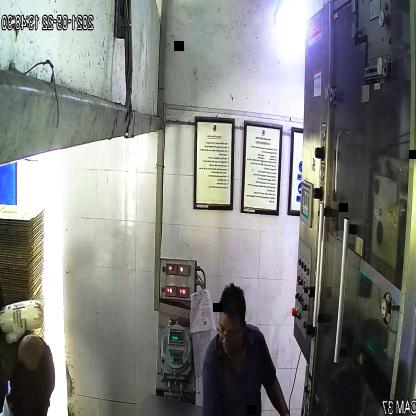goggles: (215, 317, 252, 346)
